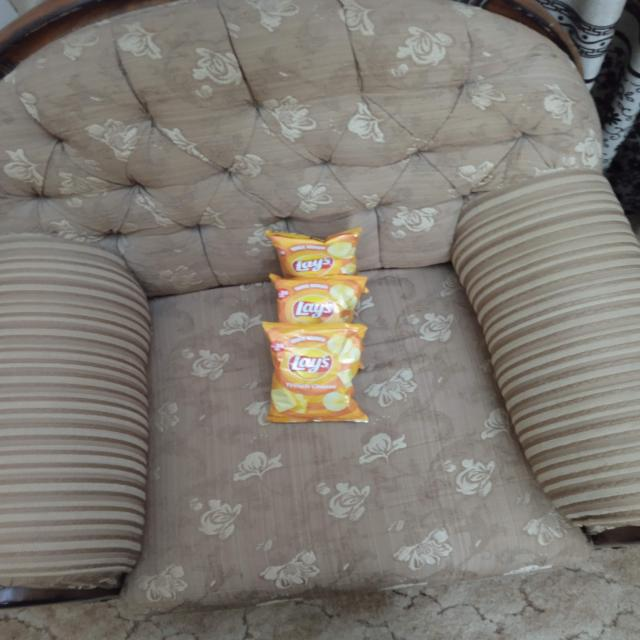Plastic: (260, 320, 366, 425), (275, 278, 357, 320), (275, 237, 355, 277)
